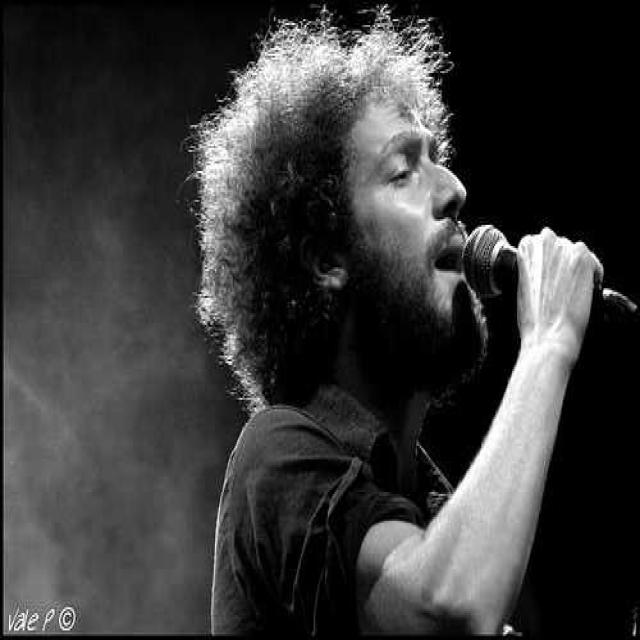microphone: (461, 219, 640, 340)
